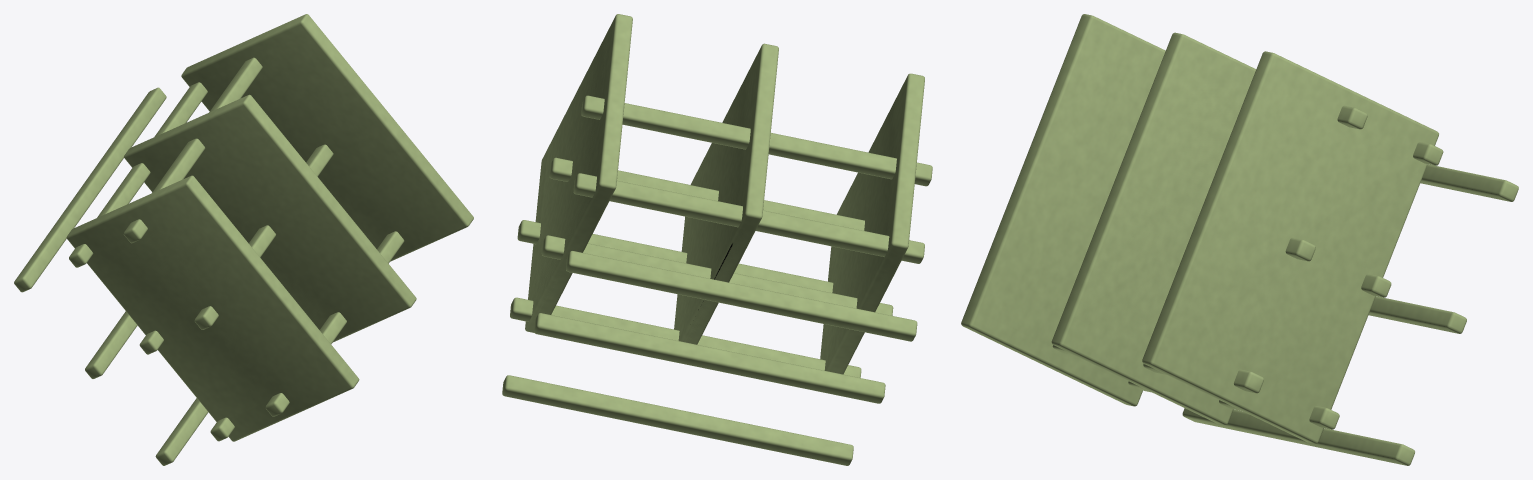
3 renders of one model, left to right at view 1: azimuth 30°, elevation 25°; view 2: azimuth 150°, elevation 25°; view 3: azimuth 270°, elevation 25°, orthographic. The views are drawn at different scales.
Parts seen in each view (by area): view 1: Open matrix horizontal beam; view 2: Open matrix horizontal beam; view 3: Open matrix horizontal beam.
Boxes of the visible parts, box(x1,y1,x2,y2) form: Open matrix horizontal beam: box(14, 14, 473, 465); Open matrix horizontal beam: box(502, 14, 932, 465); Open matrix horizontal beam: box(961, 14, 1518, 465).
Size of the model in its own units: 1.42 by 1.32 by 1.41.
Materials: 1 (1 with a texture image).
